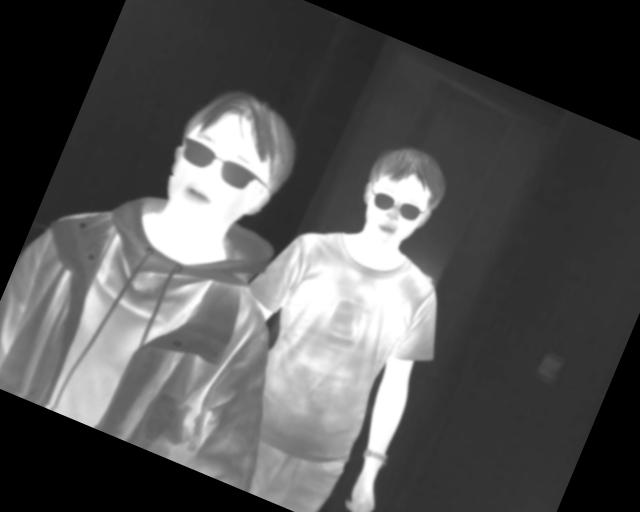face: (149, 73, 312, 251), (345, 134, 457, 260)
